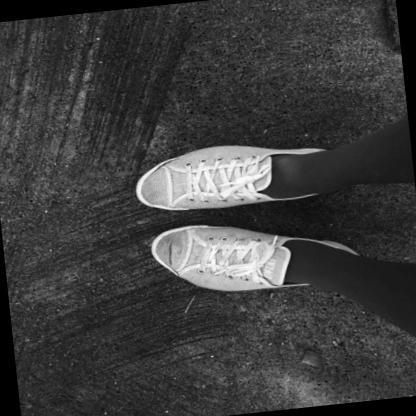ankle: (303, 241, 307, 243), (293, 162, 295, 164)
heel: (346, 249, 350, 252), (318, 149, 320, 151)
left_foot: (133, 134, 336, 216)
pinky: (181, 273, 185, 276), (166, 164, 168, 166)
right_foot: (149, 209, 363, 301)
toe: (174, 231, 178, 235), (156, 202, 158, 204)
